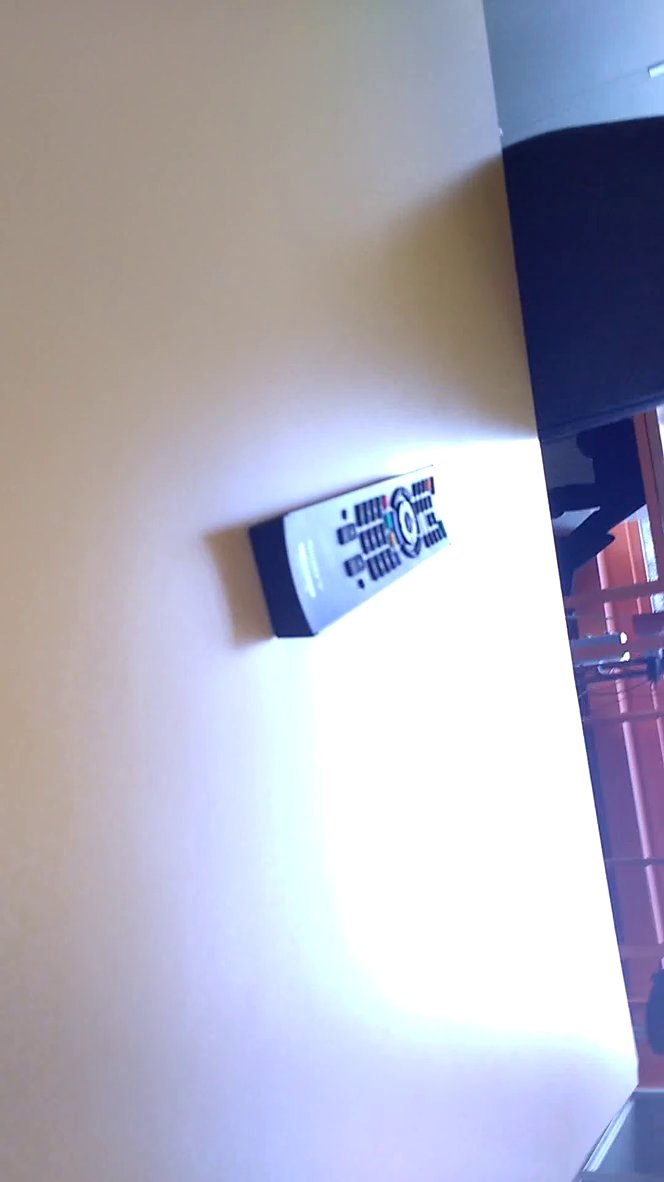remote: (227, 447, 491, 652)
